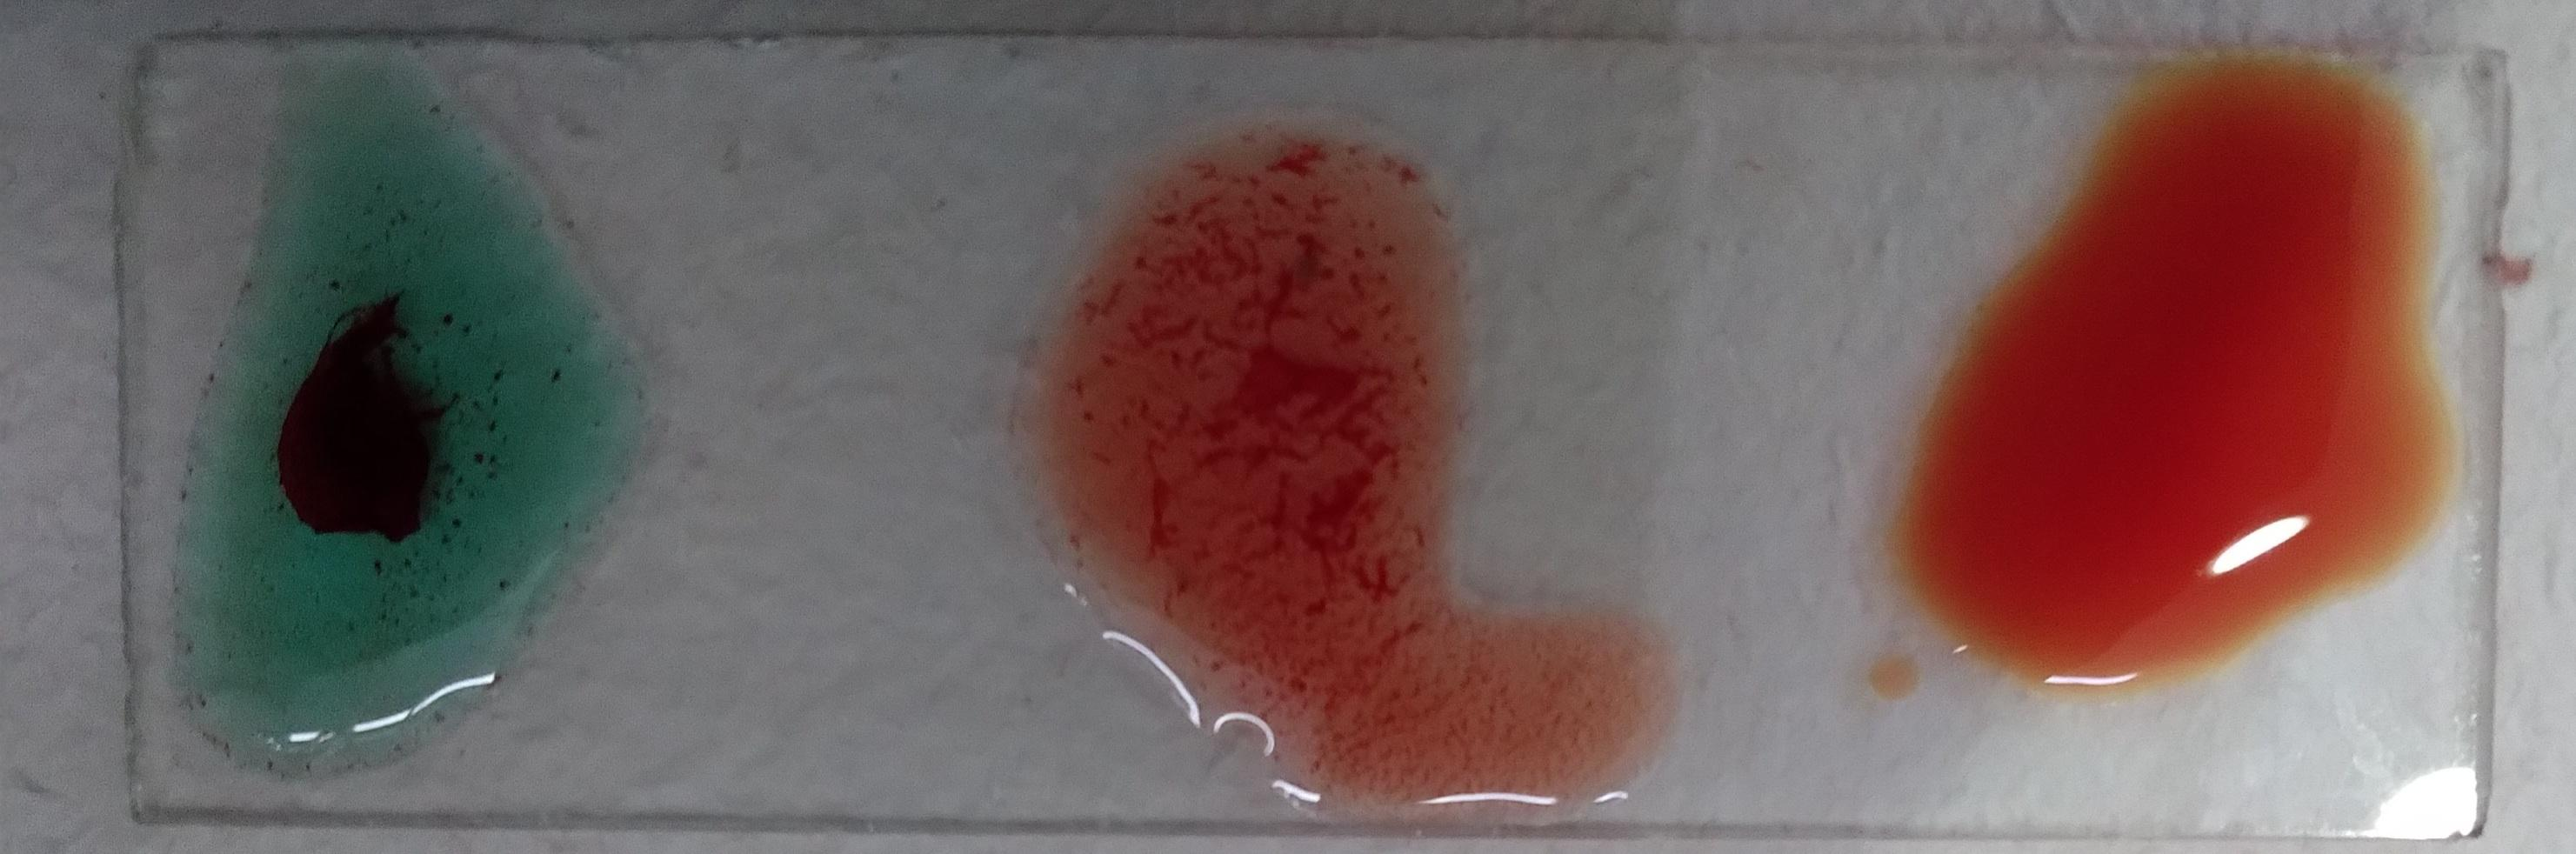A: (171, 87, 603, 759)
D: (1030, 140, 1584, 818)
